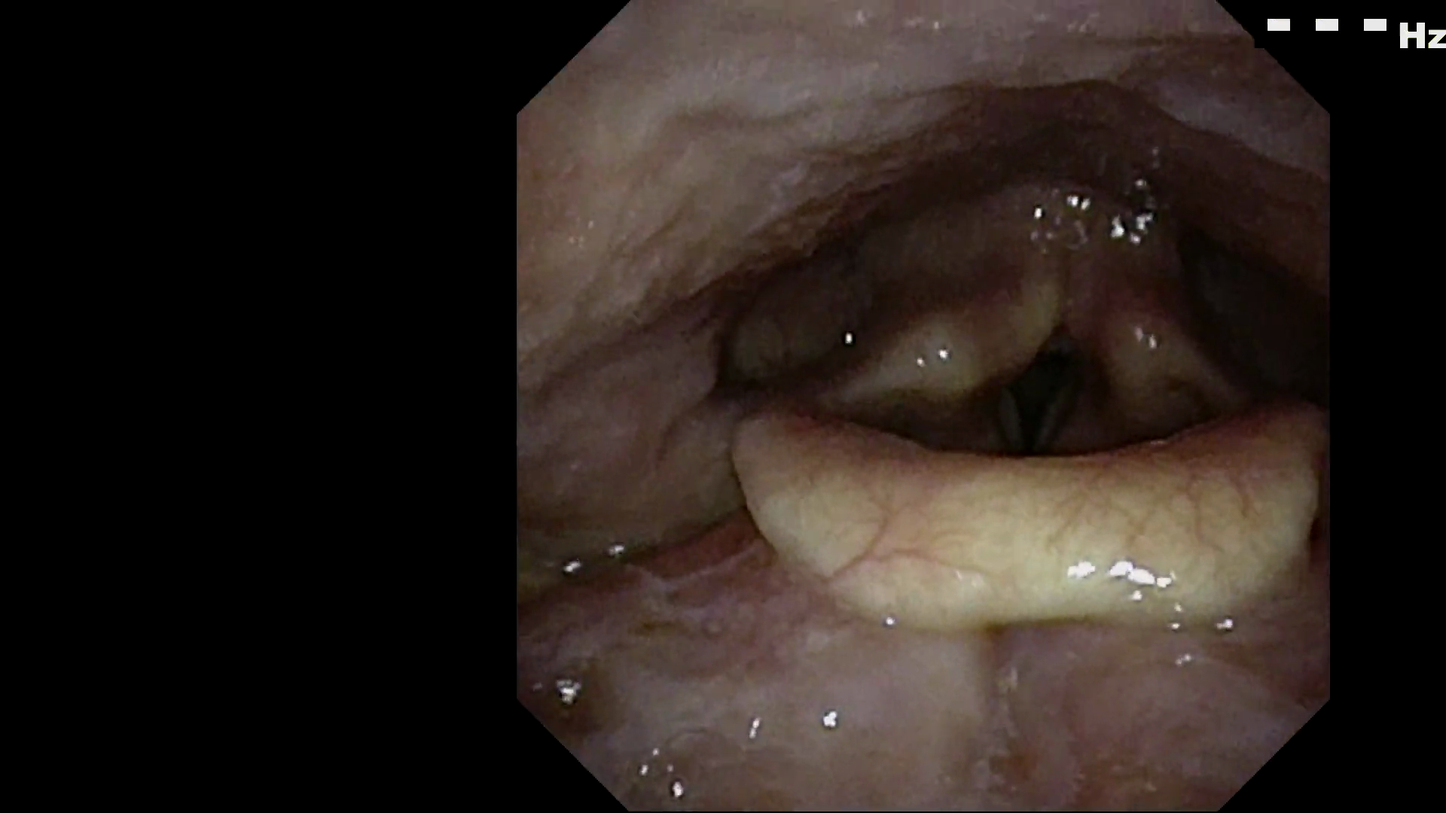epiglottis: (703, 377, 1328, 637)
trachea: (961, 316, 1110, 490)
